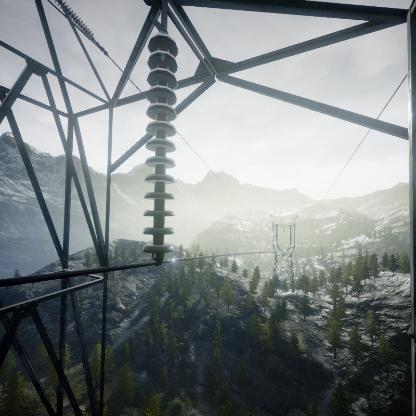insulator: (140, 32, 179, 258)
tower: (266, 212, 300, 294)
